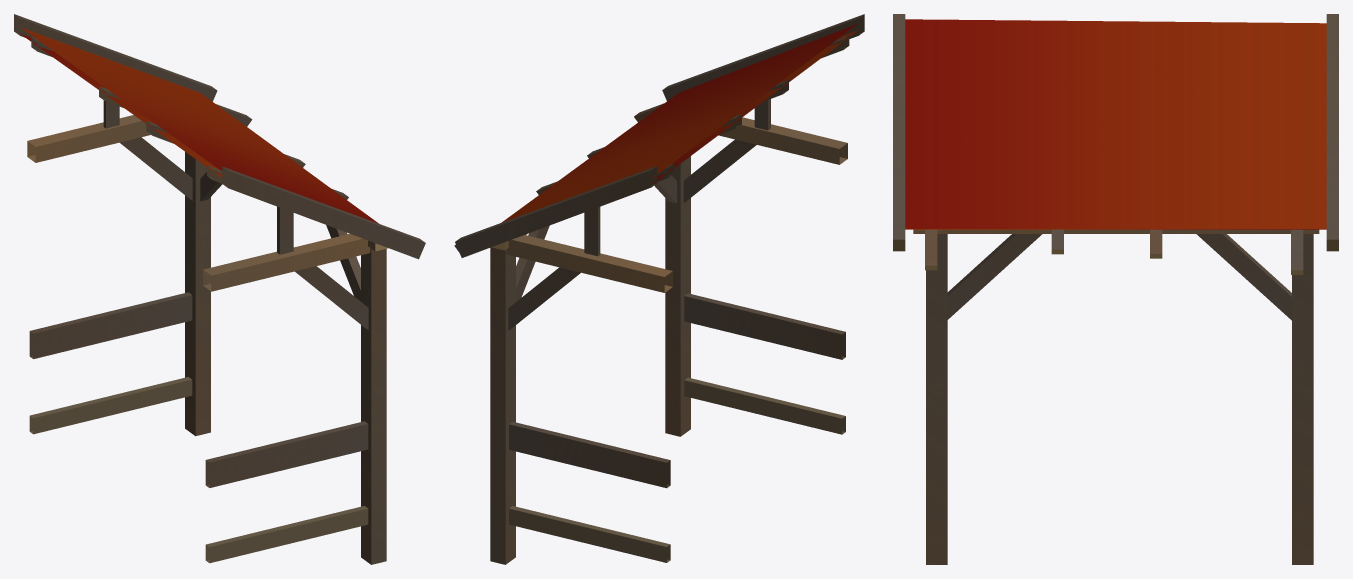
File: Shed_3_LOD1.fbx
3 renders of one model, left to right at view 1: azimuth 30°, elevation 25°; view 2: azimuth 150°, elevation 25°; view 3: azimuth 270°, elevation 25°, orthographic. The views are drawn at different scales.
Parts seen in each view (by area): view 1: polySurface9859; view 2: polySurface9859; view 3: polySurface9859.
Boxes of the visible parts, x1,y1,x2,y2 form: polySurface9859: (14,14,425,564); polySurface9859: (454,14,864,564); polySurface9859: (893,14,1338,564).
Size of the model in its own units: 239 by 471 by 411.
